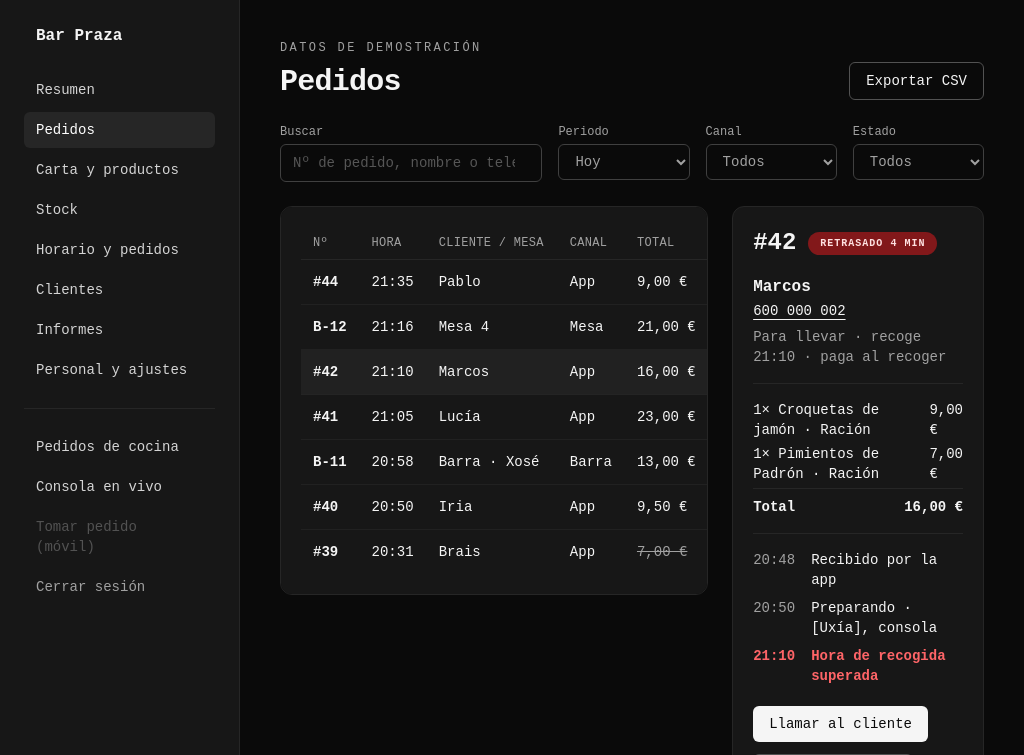
Test: OrdersPage edge cases › keeps finished orders from being cancelled
Click the text "#40" at {"x": 330, "y": 507}, box [301,484,360,530]
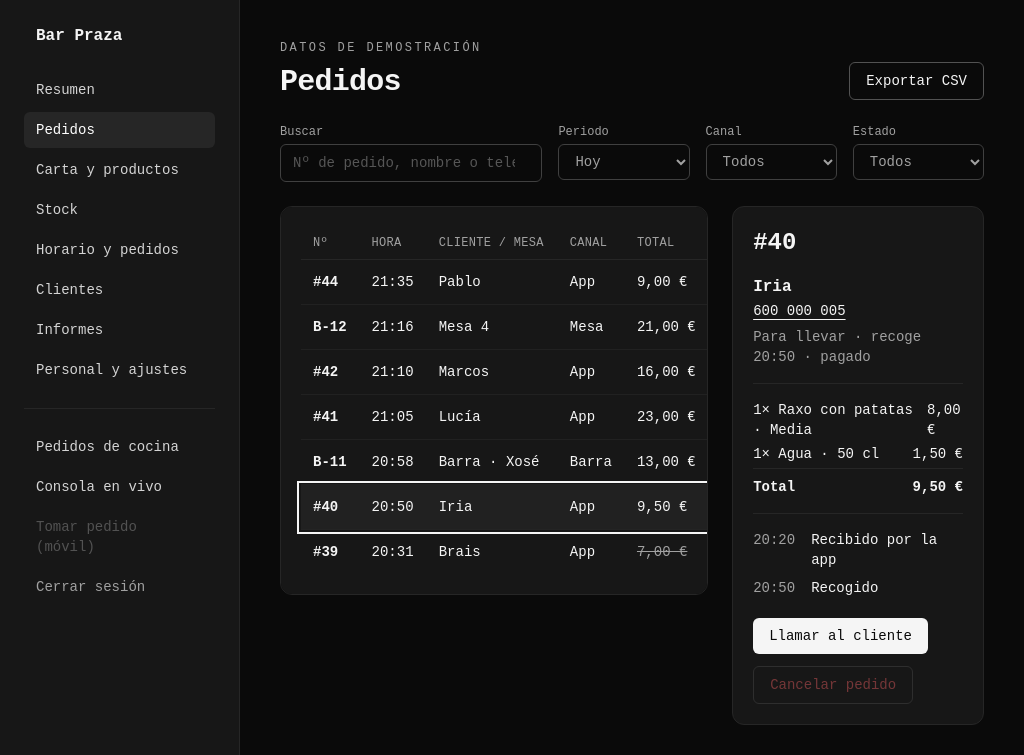
Expected: the button "Cancelar pedido" is disabled, [753,666,913,704]
